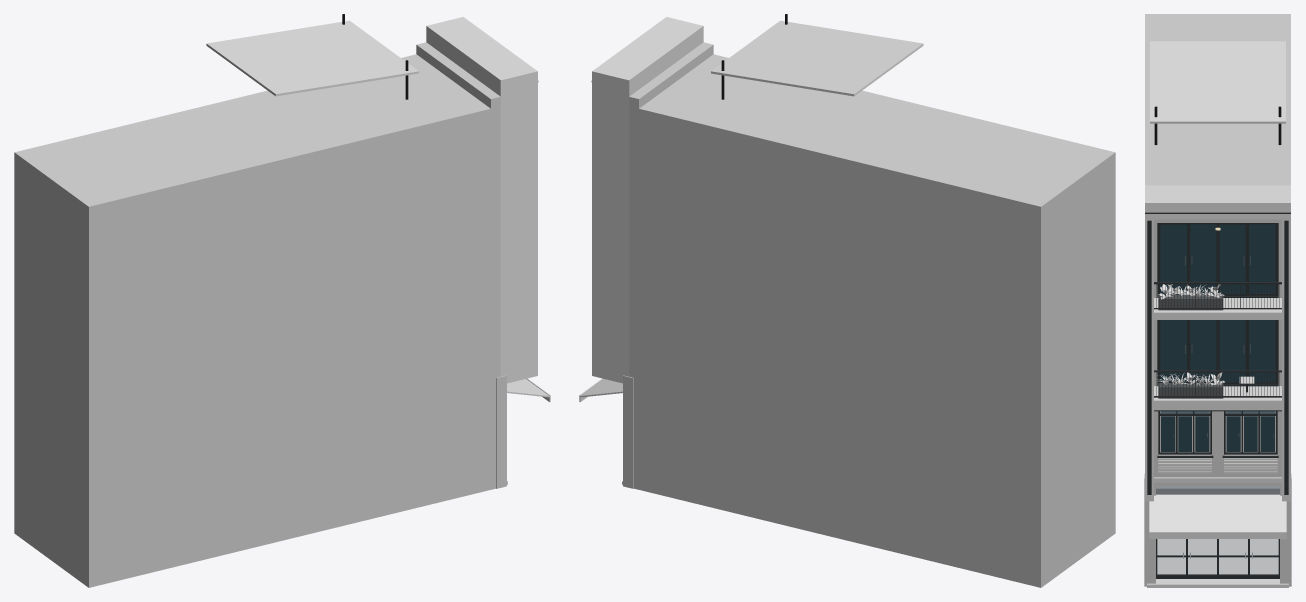
File: OW_Mau_NhaPho_5_0_2.fbx
3 views of the same model, side by side, from view 1: azimuth 30°, elevation 25°; view 2: azimuth 150°, elevation 25°; view 3: azimuth 270°, elevation 25° (orthographic). The views are drawn at different scales.
Parts seen in each view (by area): view 1: OW_NhaPho_9012; view 2: OW_NhaPho_9012; view 3: OW_NhaPho_9012, OW_MatTienKinh.
Part boxes in pixels (bbox=[...]): OW_NhaPho_9012: bbox=[14, 14, 550, 587]; OW_NhaPho_9012: bbox=[579, 14, 1115, 587]; OW_NhaPho_9012: bbox=[1144, 14, 1291, 587]; OW_MatTienKinh: bbox=[1156, 486, 1279, 578].
Bounding box in the file's own units: 17.77 × 16.31 × 5.
